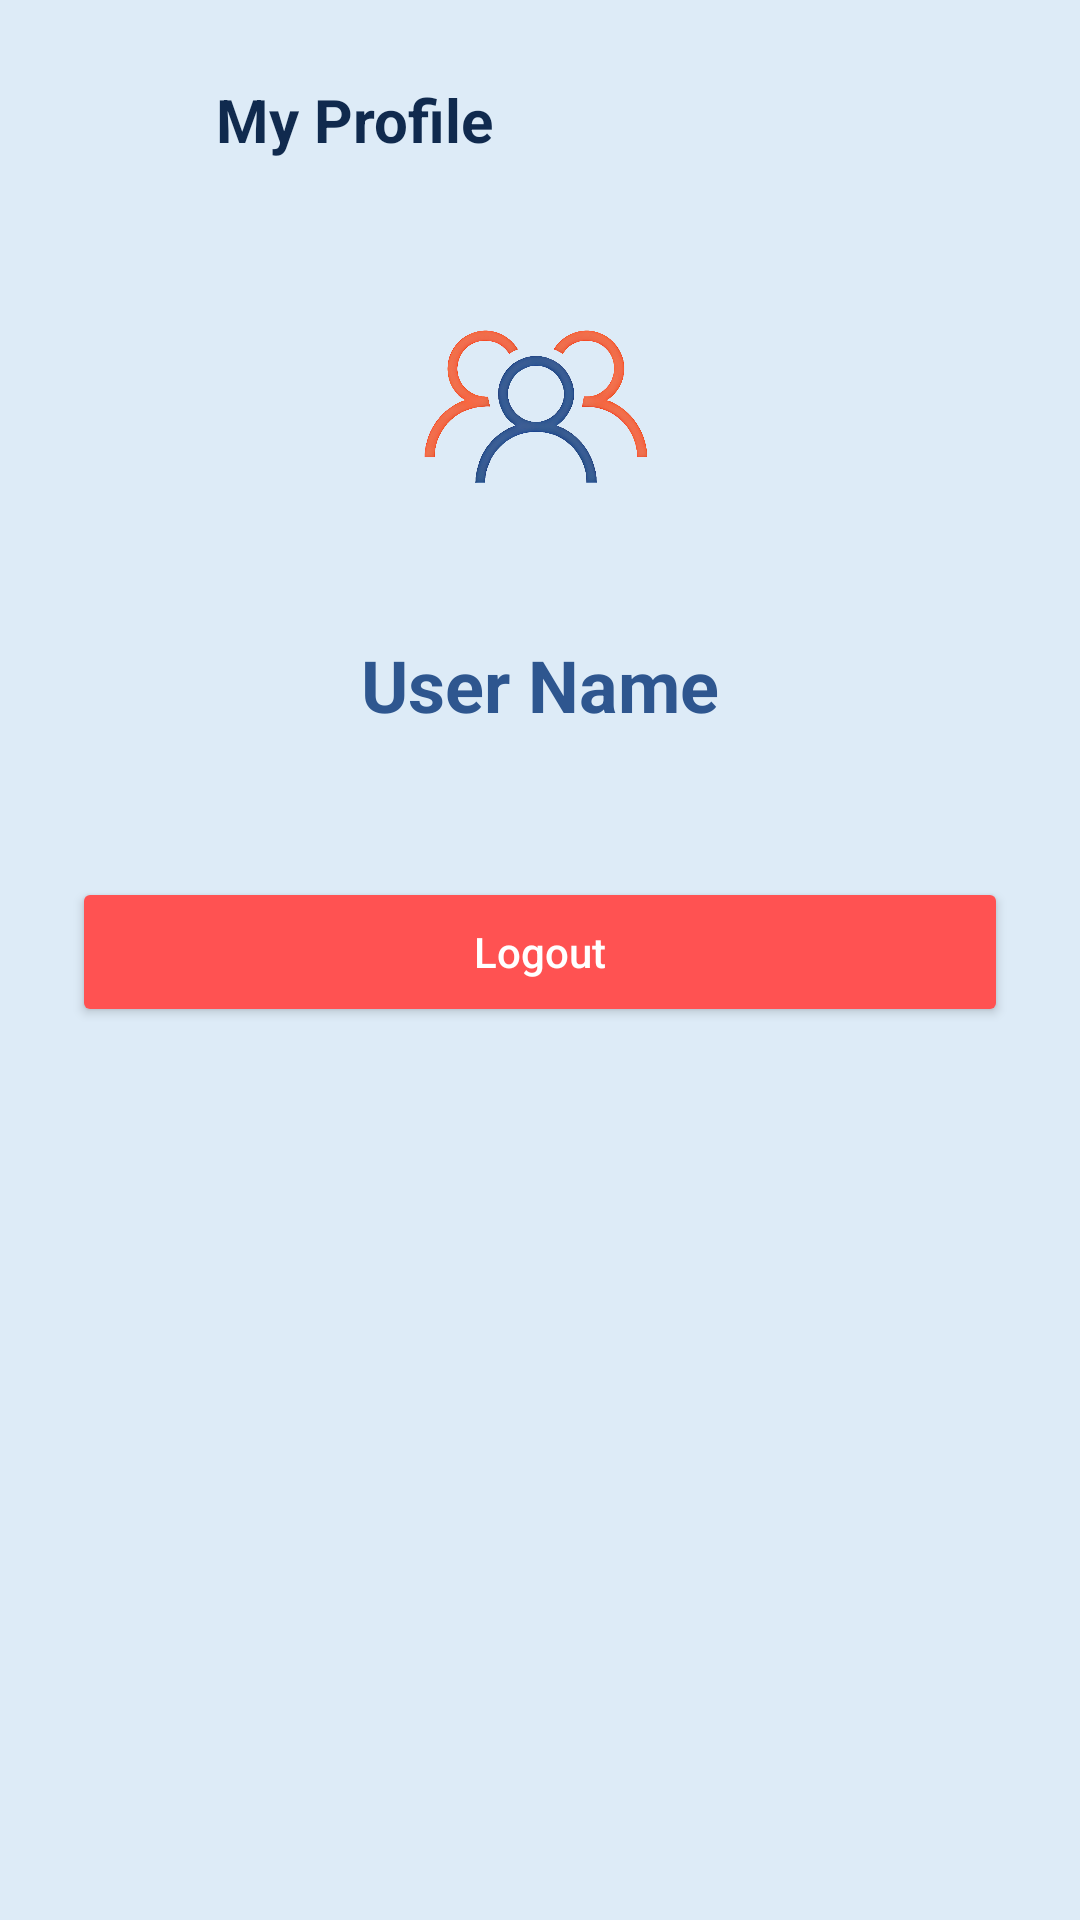

Locate icon controls on the screen. Image size 1080w x 1920h, boxes as (x1, y1, x2, y2).
members: (424, 330, 647, 483)
